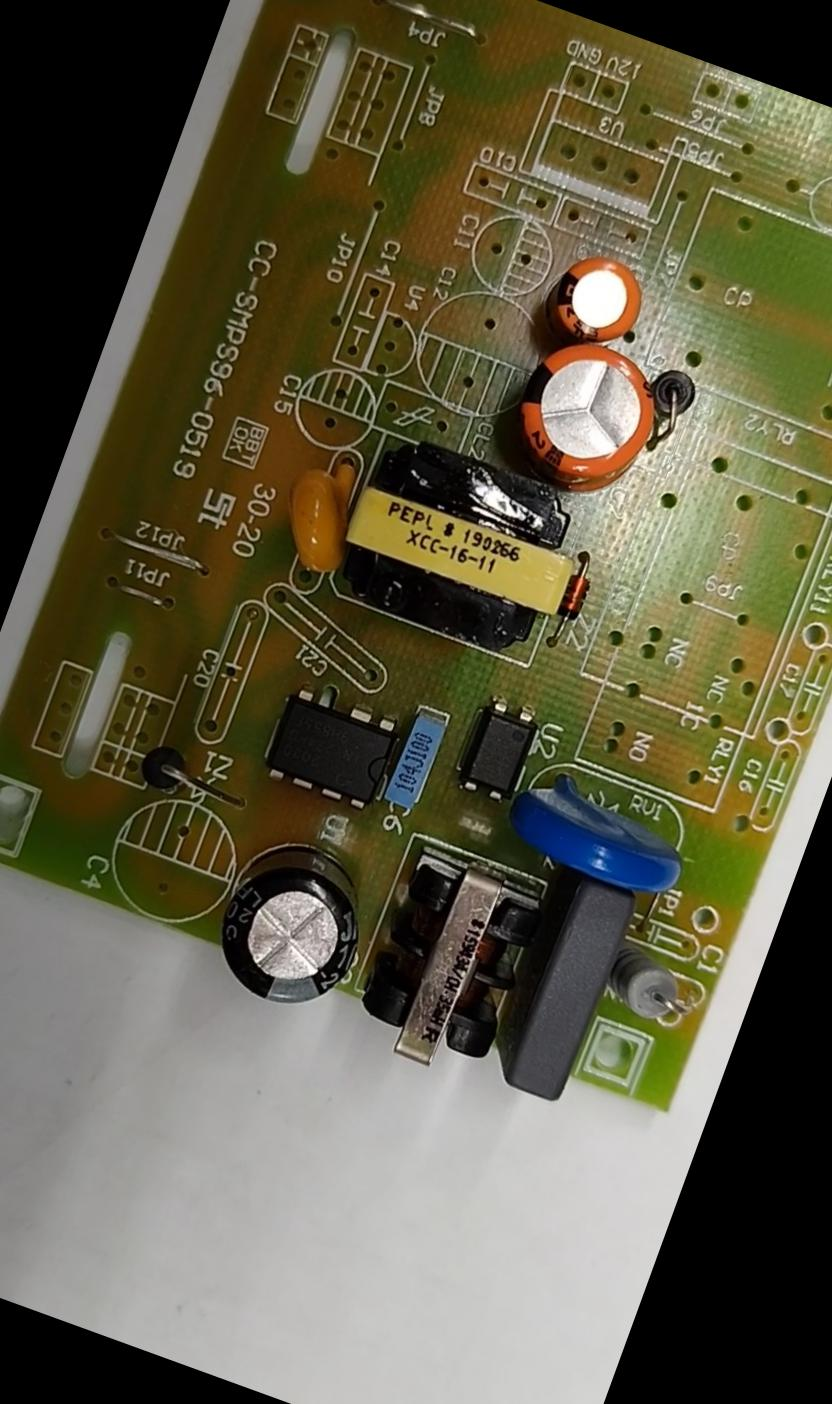Cap1: (500, 329, 670, 509)
Cap2: (543, 242, 651, 350)
Cap3: (208, 826, 382, 1024)
MOSFET: (264, 682, 399, 810)
Mov: (506, 766, 694, 905)
Resistor: (328, 431, 594, 668), (604, 942, 700, 1031)
Transformer: (357, 848, 545, 1084)
